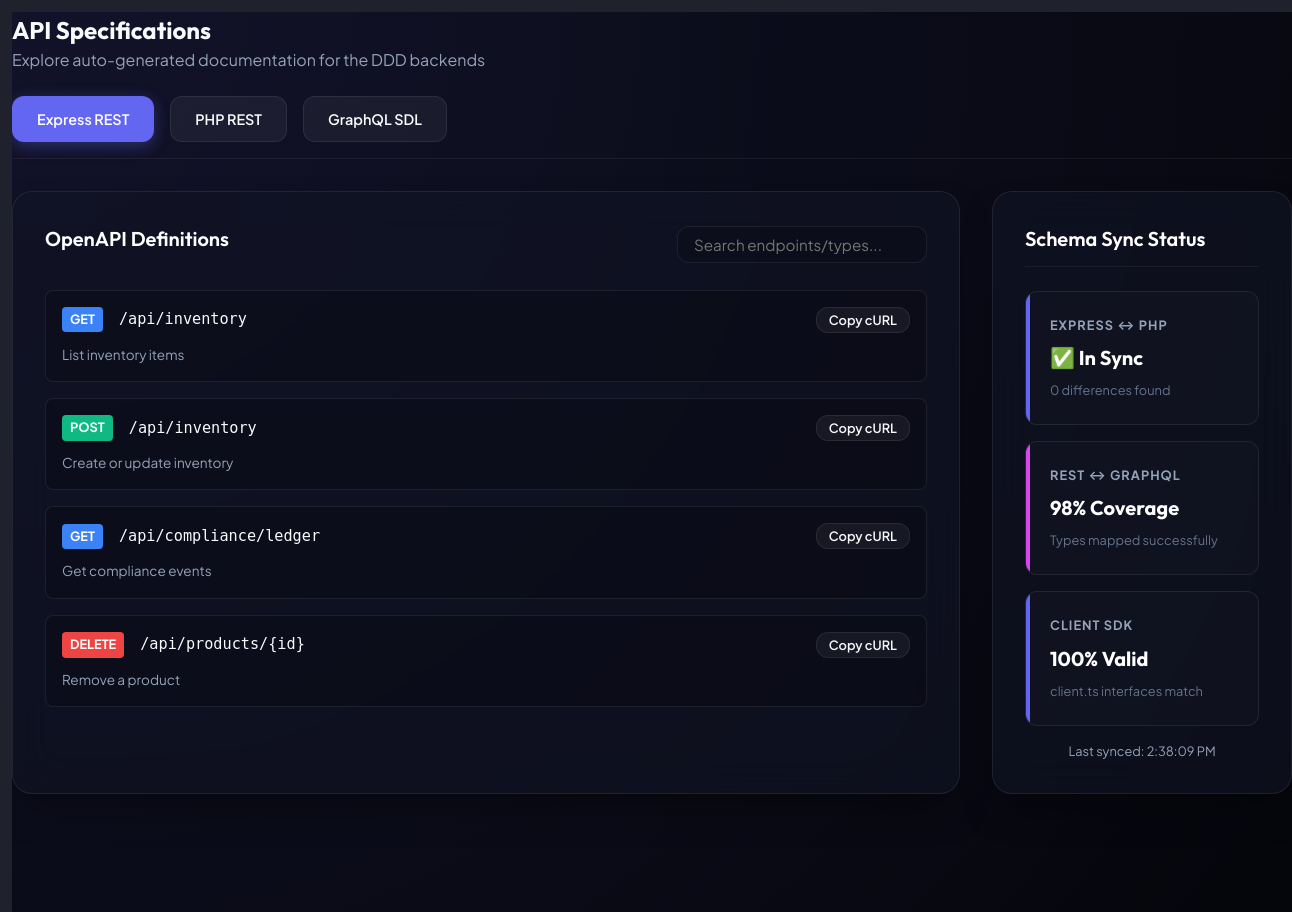
Scenario: ApiSpecViewerPanel › filters endpoints using search
In the field with placeholder "Search endpoints/types...": [802, 245] box [677, 226, 927, 263], type "compliance"
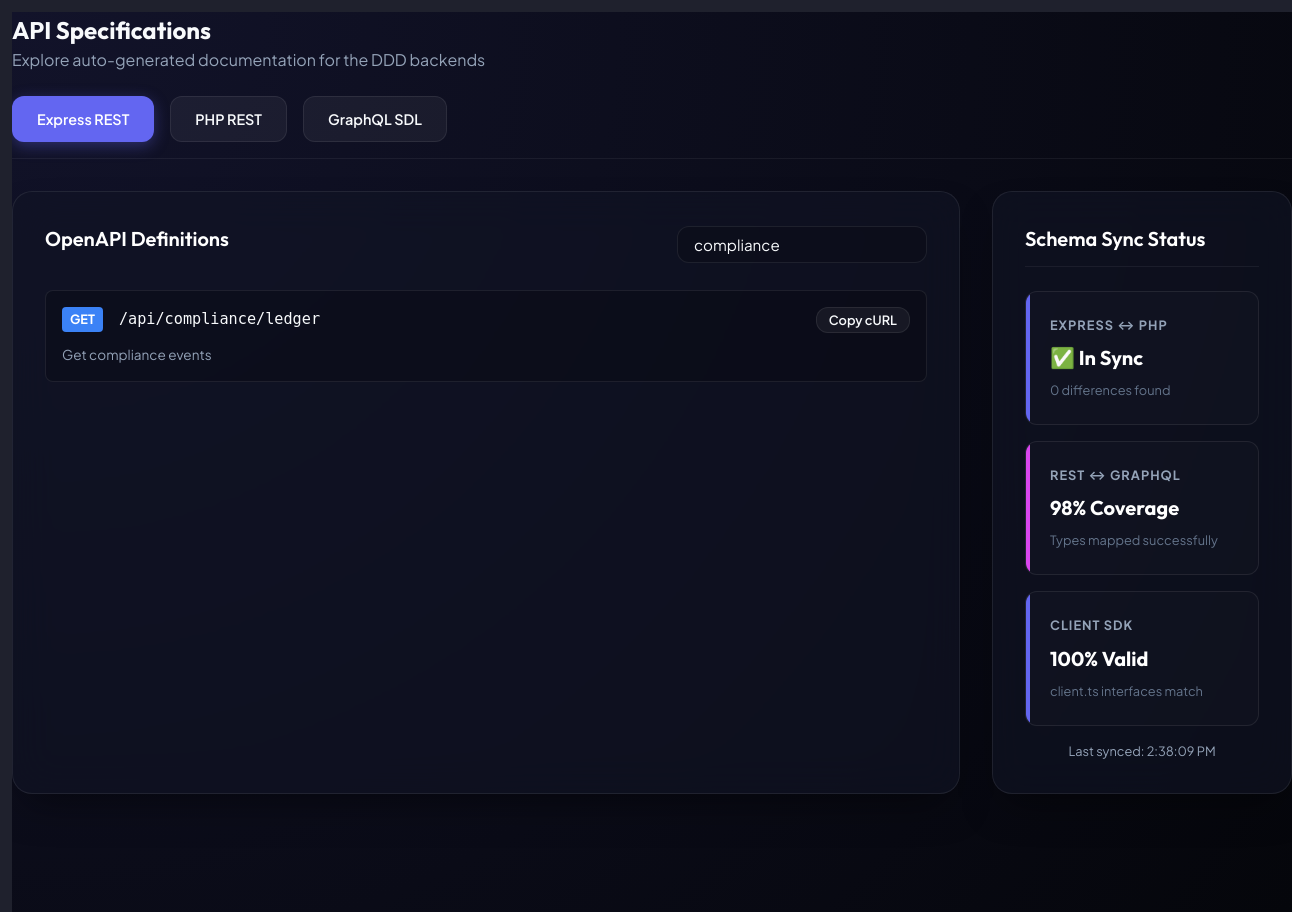
Now the text "/api/compliance/ledger" is shown, box [119, 308, 320, 331]
Now the text "Remove a product" is gone
